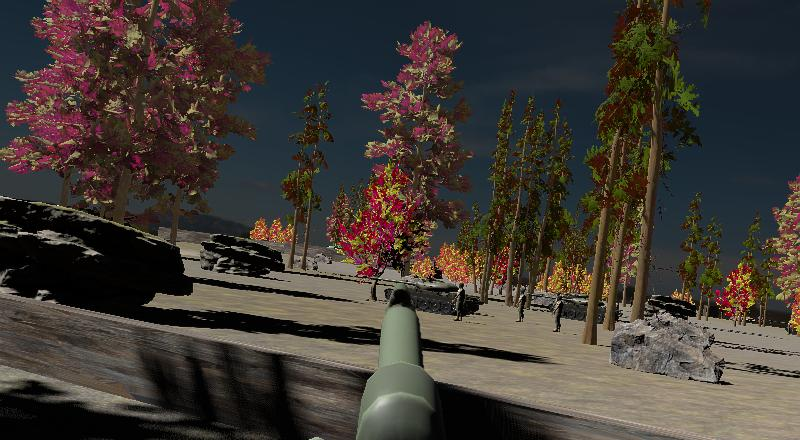Tank: (367, 274, 480, 318)
